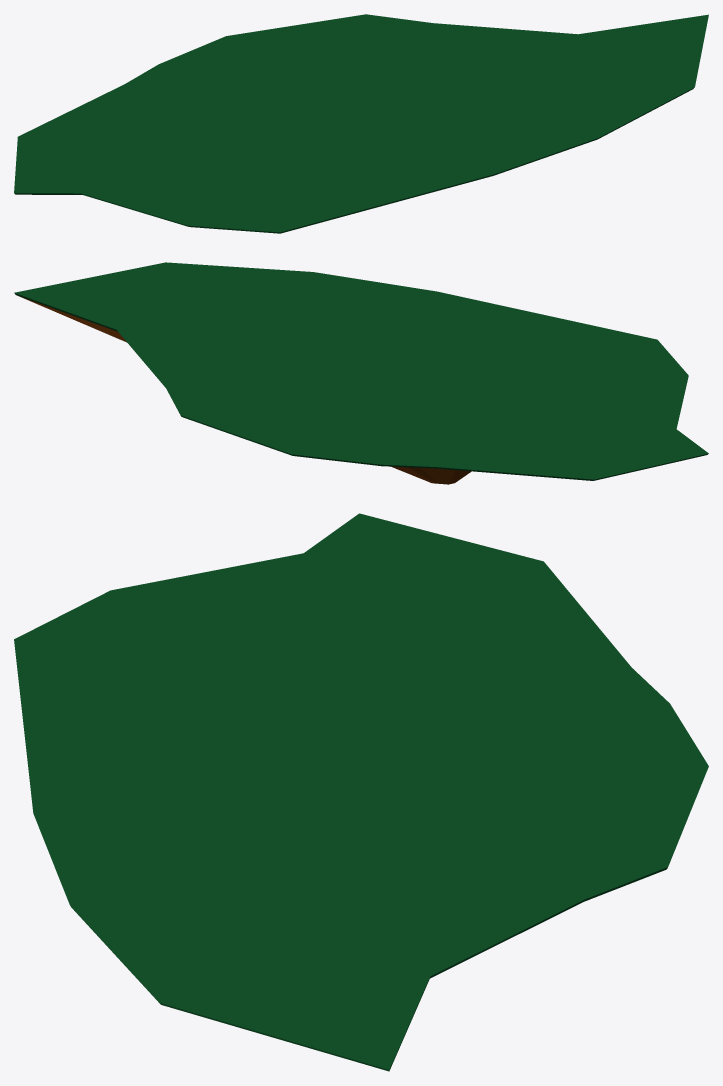
File: island 1.glb
3 renders of one model, top to bottom at view 1: azimuth 30°, elevation 25°; view 2: azimuth 150°, elevation 25°; view 3: azimuth 270°, elevation 25°, orthographic. The views are drawn at different scales.
Visible parts, largest first — view 1: Vert.001; view 2: Vert.001, Vert; view 3: Vert.001.
Part boxes in pixels (x1=…): Vert.001: x1=14, y1=14, x2=708, y2=233; Vert.001: x1=14, y1=262, x2=708, y2=480; Vert: x1=18, y1=296, x2=471, y2=484; Vert.001: x1=14, y1=513, x2=708, y2=1071.
Bounding box in the file's own units: 10.08 × 1.16 × 5.32.
